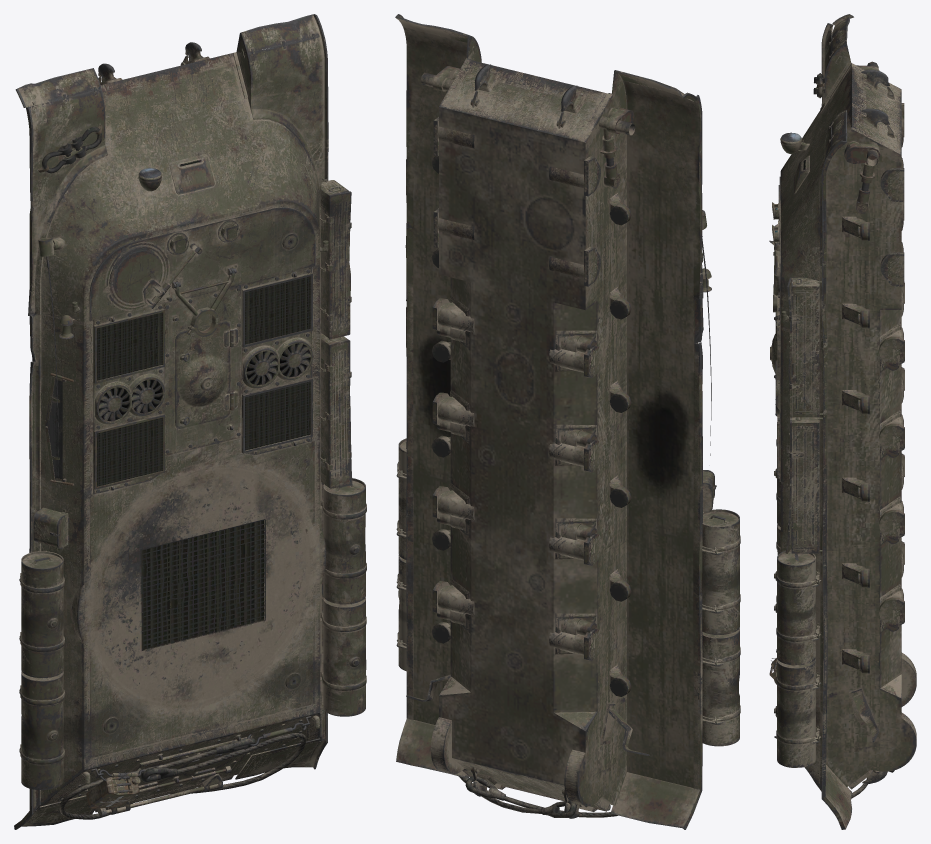
File: Hull.glb
3 renders of one model, left to right at view 1: azimuth 30°, elevation 25°; view 2: azimuth 150°, elevation 25°; view 3: azimuth 270°, elevation 25°, orthographic. The views are drawn at different scales.
Parts seen in each view (by area): view 1: set_0_group_0; view 2: set_0_group_0; view 3: set_0_group_0.
Boxes of the visible parts, x1,y1,x2,y2 form: set_0_group_0: (14,14,366,829); set_0_group_0: (395,14,740,829); set_0_group_0: (769,14,916,829).
Bounding box in the file's own units: 3.31 × 7.07 × 1.36.
1 material, 1 textured.
